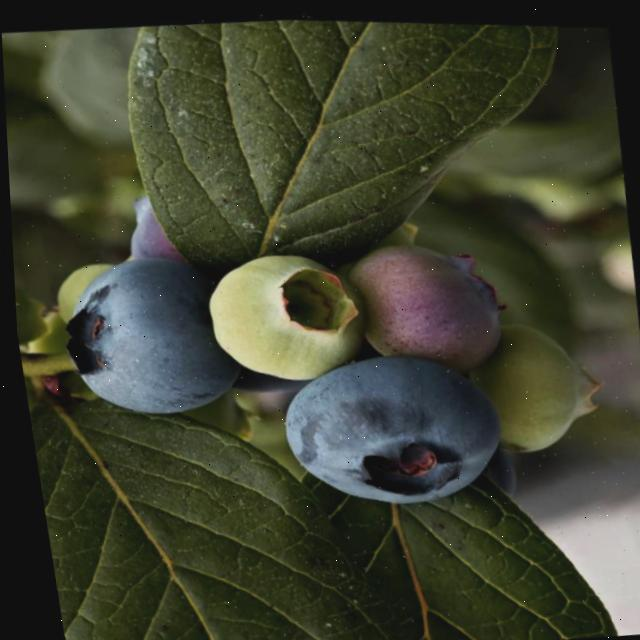RipeBlueBerry: (263, 327, 520, 523), (49, 242, 239, 426)
Semi-RipeBlueBerry: (343, 225, 516, 375)
UnripeBlueBerry: (194, 233, 382, 391)
